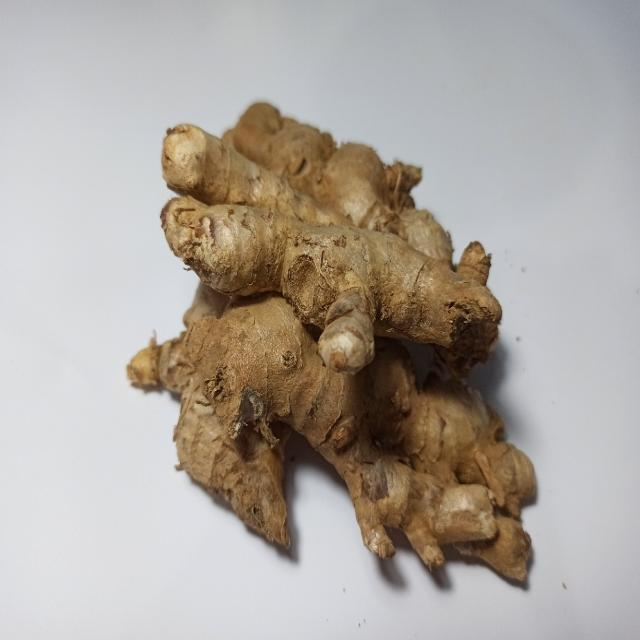ginger: (148, 97, 535, 590)
